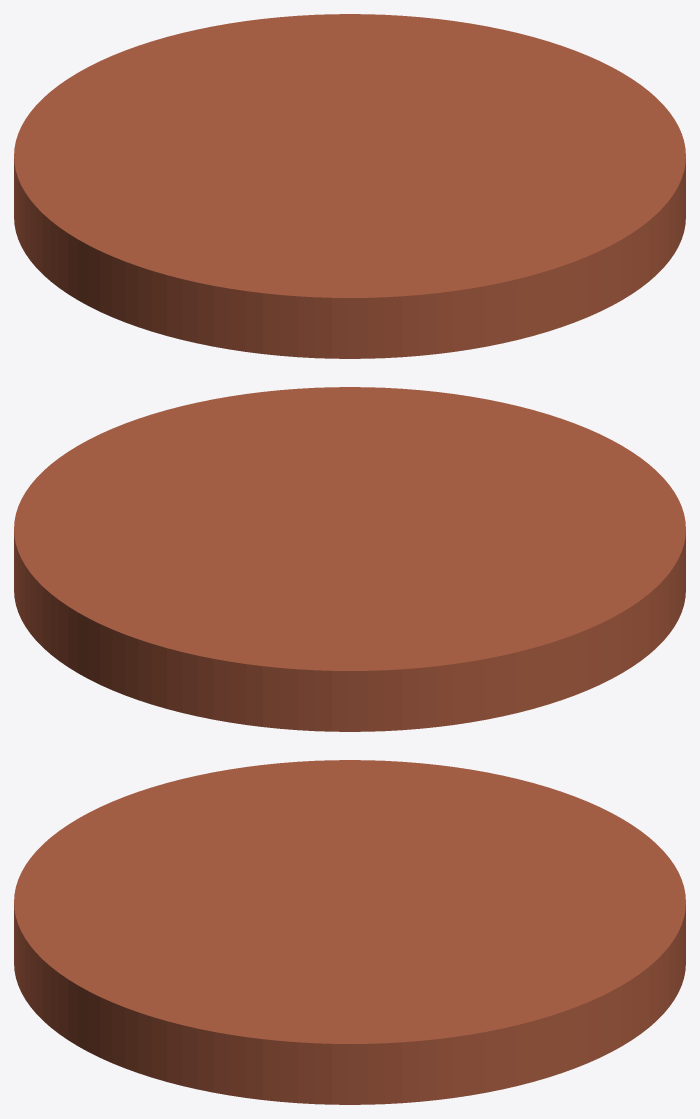
The picture shows the model from 3 angles, top to bottom: view 1: azimuth 30°, elevation 25°; view 2: azimuth 150°, elevation 25°; view 3: azimuth 270°, elevation 25°; orthographic projection.
Size of the model in its own units: 0.04 by 0.004 by 0.04.
